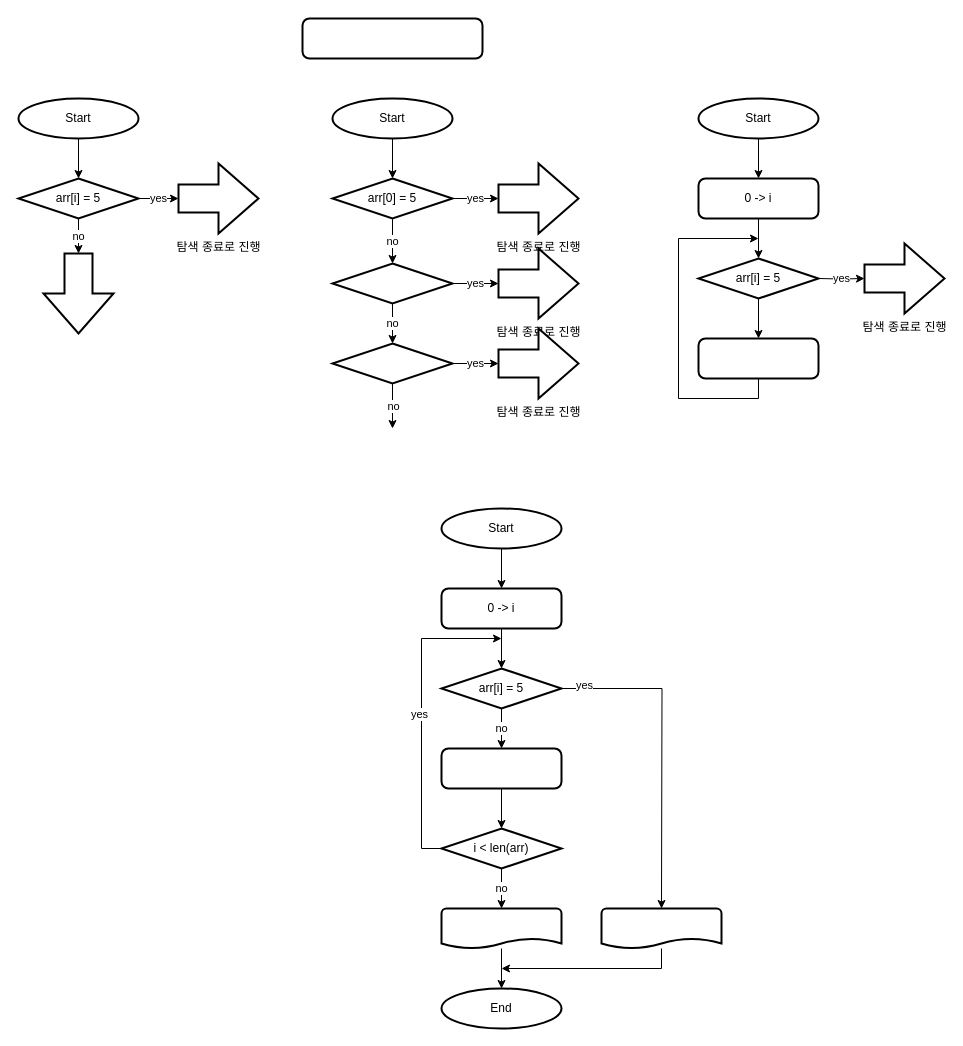
The diagram is 963 pixels wide and 1046 high, and some of its shapes have lost their labels. Each missing label, with the box of its shape:
'i번째 요소가 일치': (600, 907, 722, 949)
arr[1] = 5: (331, 262, 453, 304)
arr[2] = 5: (331, 342, 453, 384)
i = i + 1: (697, 337, 819, 379)
i = i +1: (440, 747, 562, 789)
다음 요소로 진행한다.: (42, 252, 114, 334)
선형 탐색법: (301, 17, 483, 59)
찾지 못했습니다: (440, 907, 562, 949)
